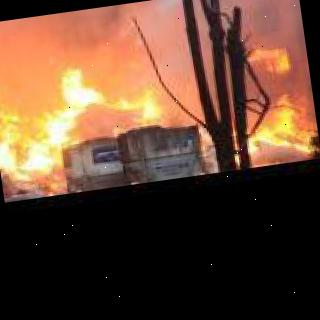fire: (0, 56, 165, 192), (240, 86, 308, 146), (236, 31, 295, 78)
